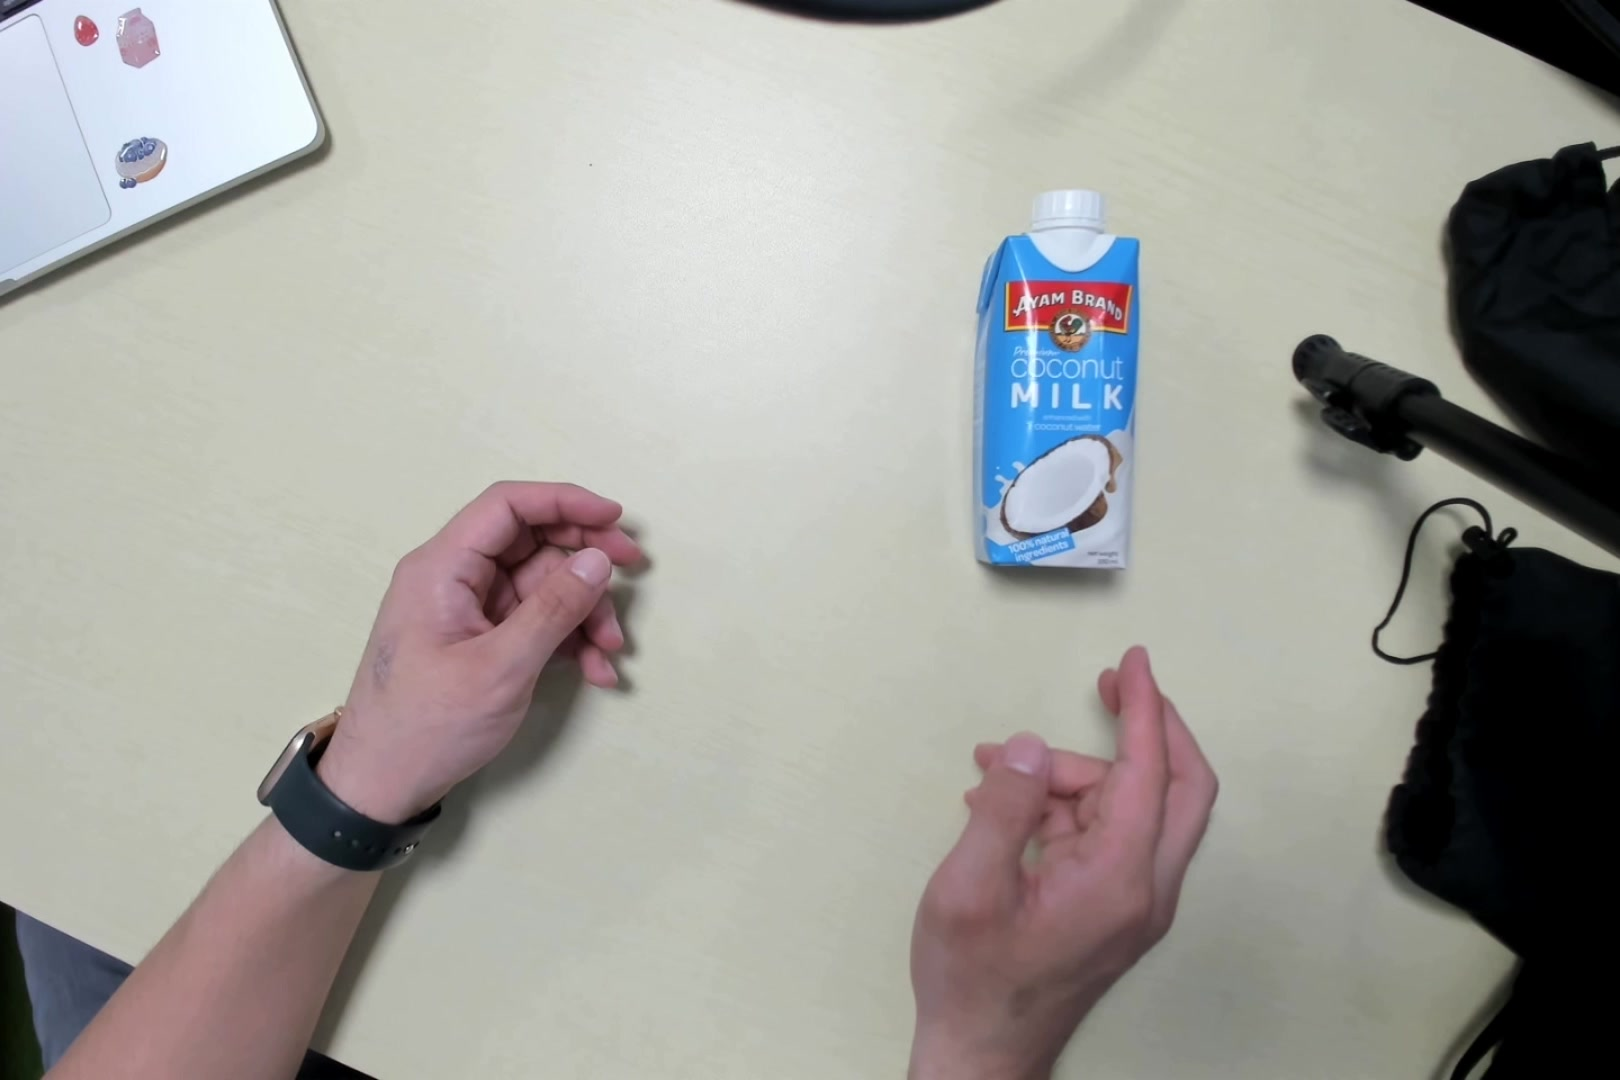CookingCreamMilk_300-399g_Halal_NonHealthy: (970, 182, 1138, 585)
